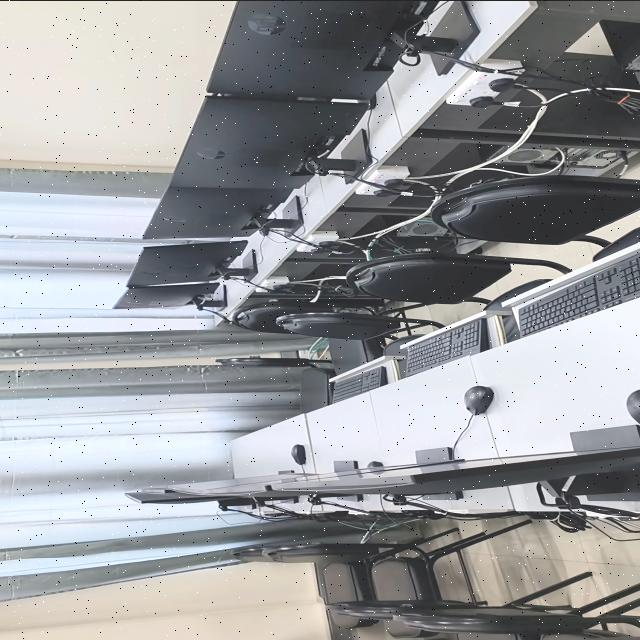Chair: (427, 174, 640, 260), (347, 251, 571, 309), (265, 543, 437, 598), (274, 311, 441, 356), (395, 609, 635, 640), (216, 357, 336, 412), (233, 303, 377, 334), (326, 597, 481, 618), (308, 334, 379, 375), (319, 563, 381, 606), (407, 625, 540, 640), (382, 615, 433, 639), (330, 610, 373, 627), (228, 548, 277, 561), (569, 633, 640, 640)
Cpu: (472, 143, 636, 169), (596, 21, 640, 71), (382, 216, 479, 238)
Keyboard: (519, 253, 640, 335), (407, 318, 489, 375), (333, 365, 387, 401)
Monitor: (208, 0, 479, 99), (172, 95, 372, 187), (272, 446, 640, 494), (145, 184, 303, 237), (127, 240, 257, 287), (113, 281, 227, 308), (167, 472, 310, 492), (210, 484, 359, 502), (125, 491, 255, 509), (141, 484, 170, 491)
Mouse: (464, 385, 493, 414), (627, 388, 640, 424), (290, 444, 305, 464)
